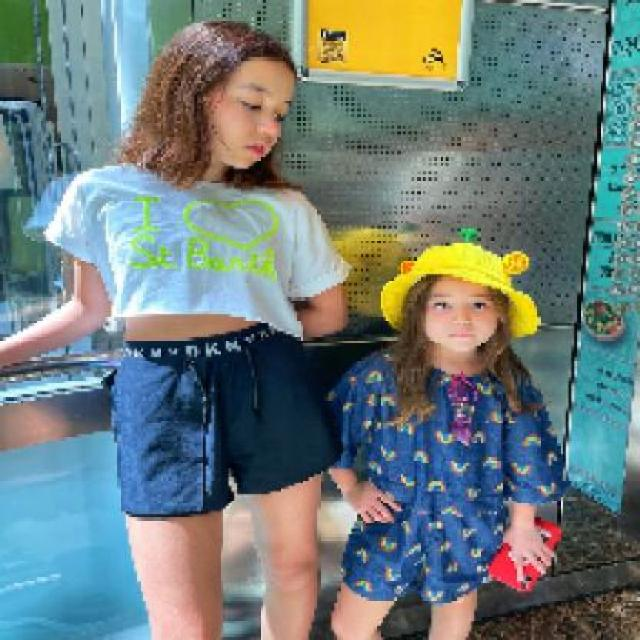child: (319, 240, 575, 637)
